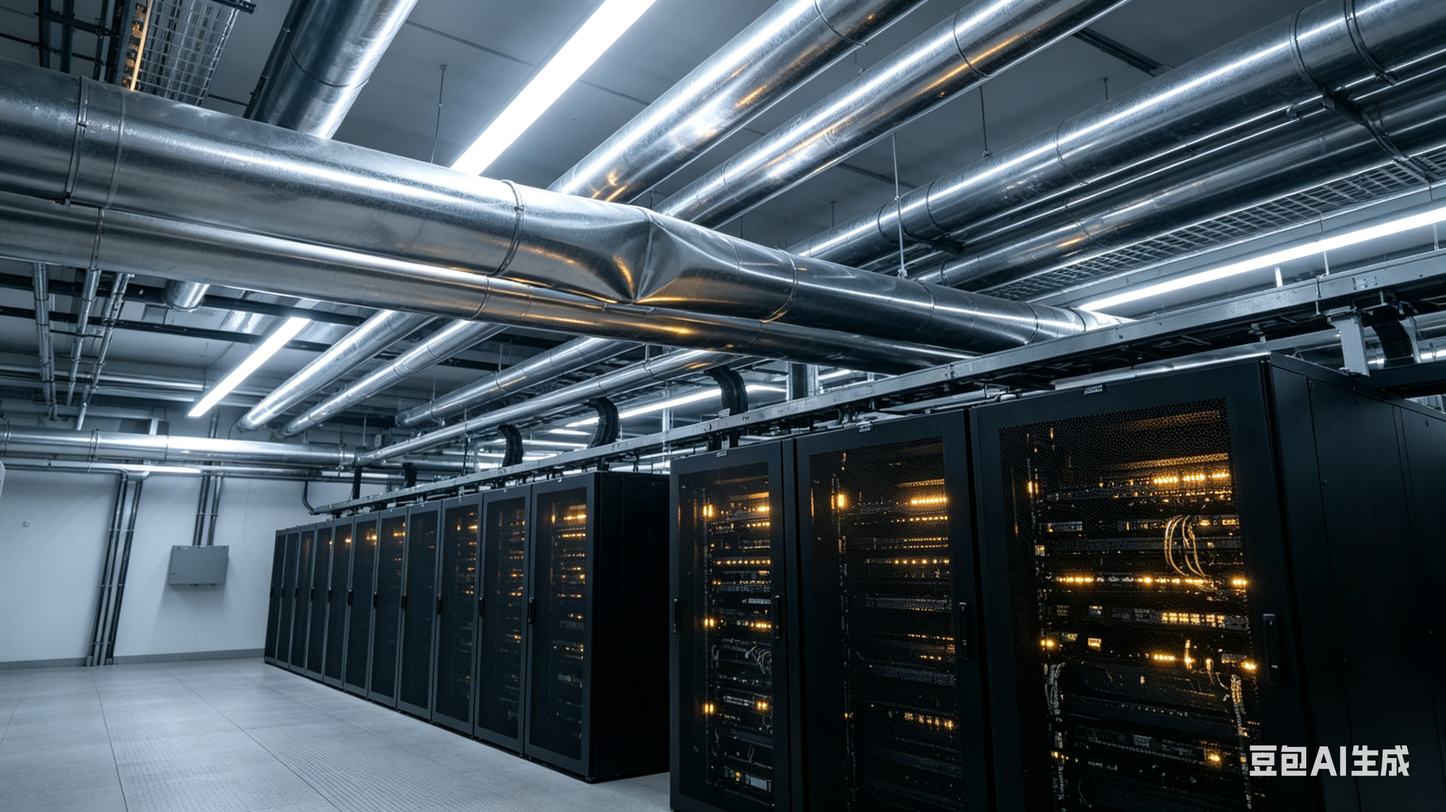Leakage: (612, 215, 686, 319)
